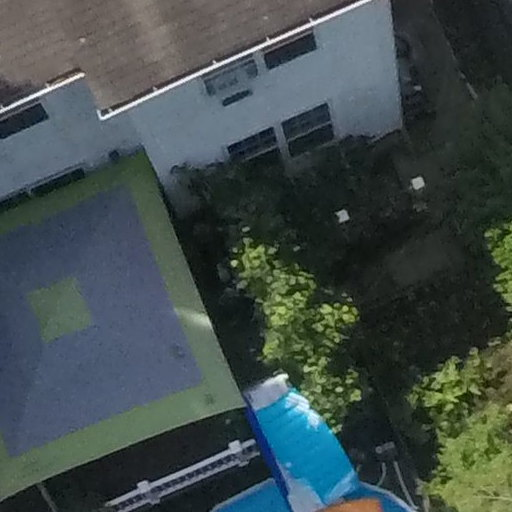fence: (109, 432, 265, 512)
umbrella: (1, 123, 266, 507)
